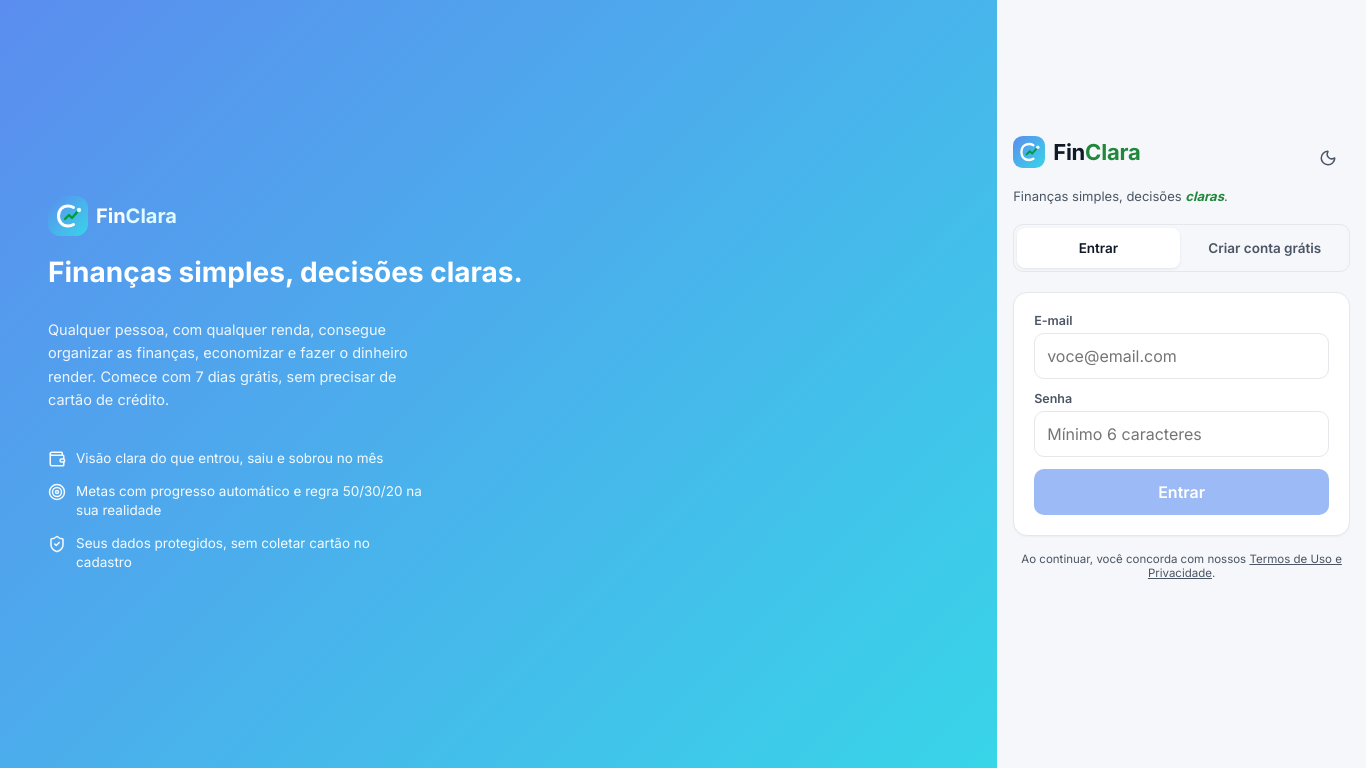
Scenario: Landing pública e autenticação › alterna entre as abas Entrar e Criar conta grátis
expect the field with id "email" is shown: met, box 1034,333 -> 1329,379
Click the tab "Criar conta grátis" at (1265, 248), box 1184,228 -> 1346,268
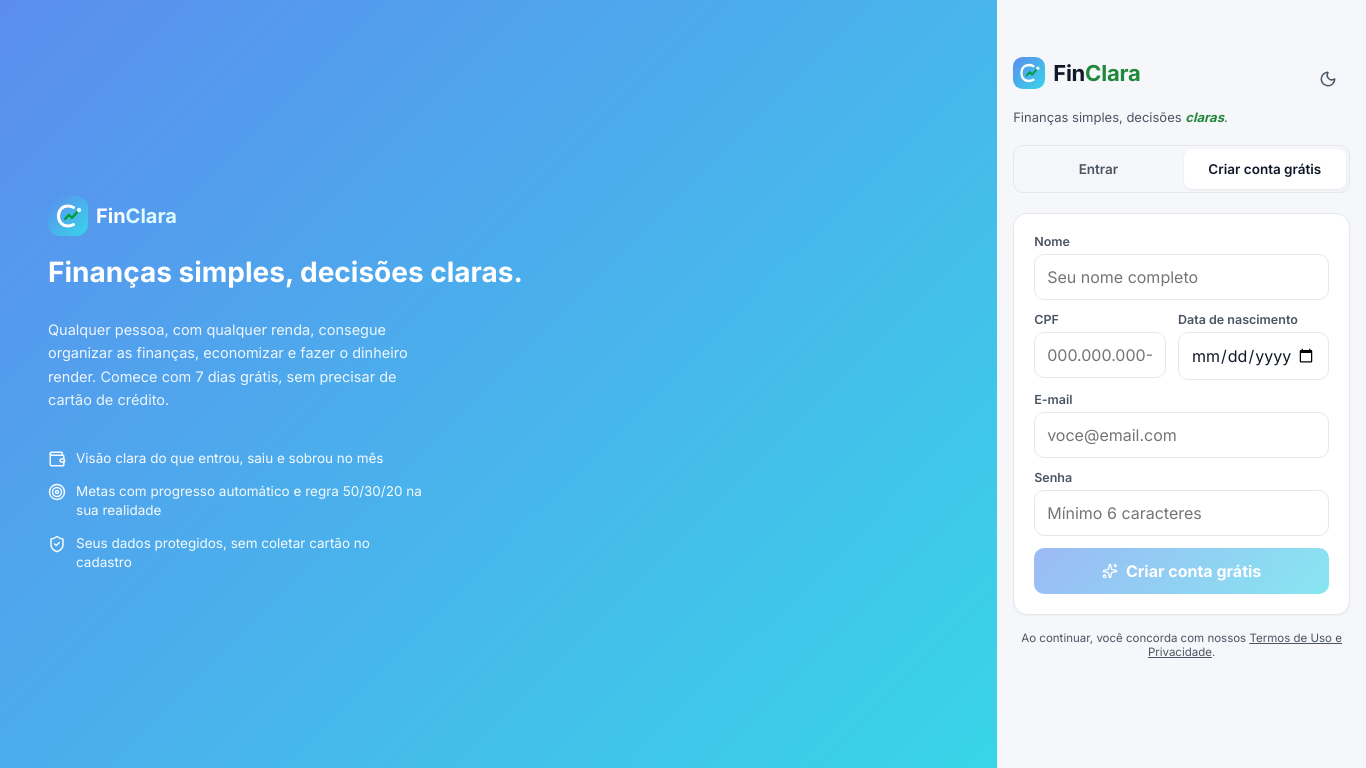
expect the field with id "nome" is shown: met, box 1034,254 -> 1329,300
expect the field with id "cpf" is shown: met, box 1034,332 -> 1166,378
Click the tab "Entrar" at (1098, 169), box 1017,149 -> 1179,189
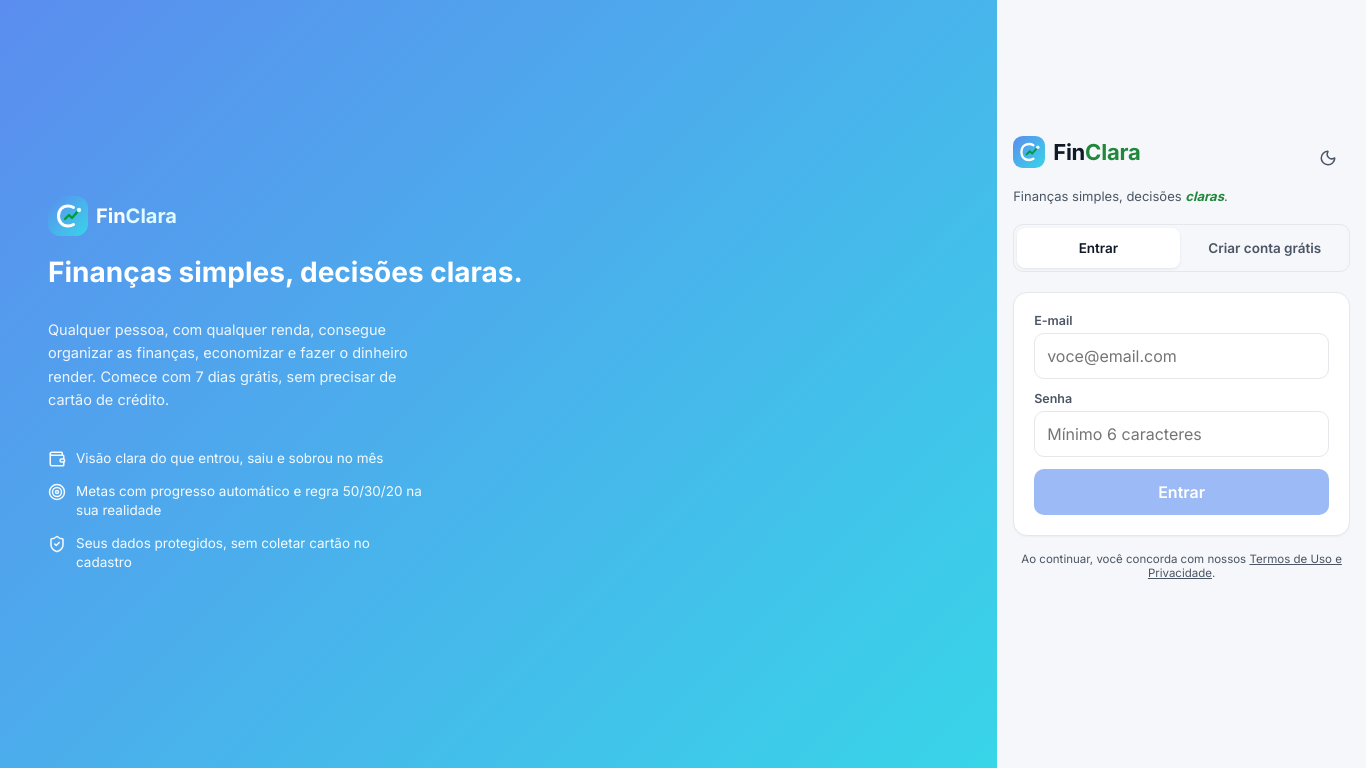
expect the label with id "nome" is gone: met
